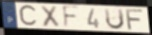4: (87, 8, 101, 29)
C: (18, 4, 39, 28)
F: (62, 5, 81, 30), (125, 8, 145, 31)
U: (103, 8, 126, 31)
X: (39, 5, 61, 29)
